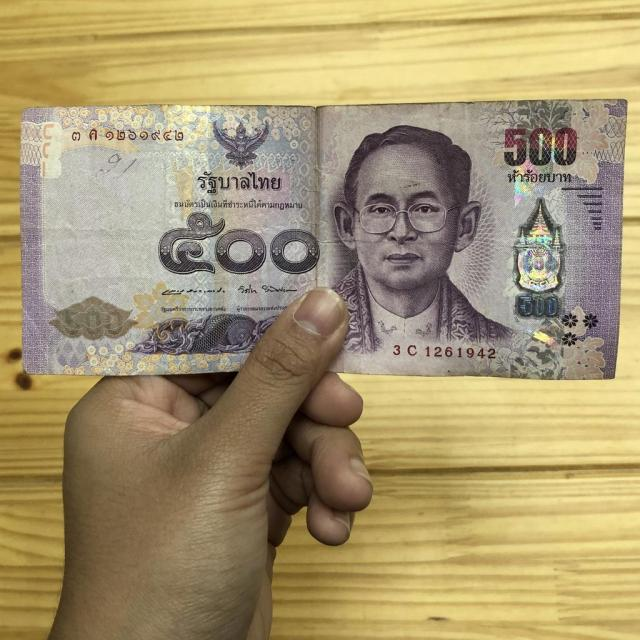THAI500: (19, 96, 628, 382)
